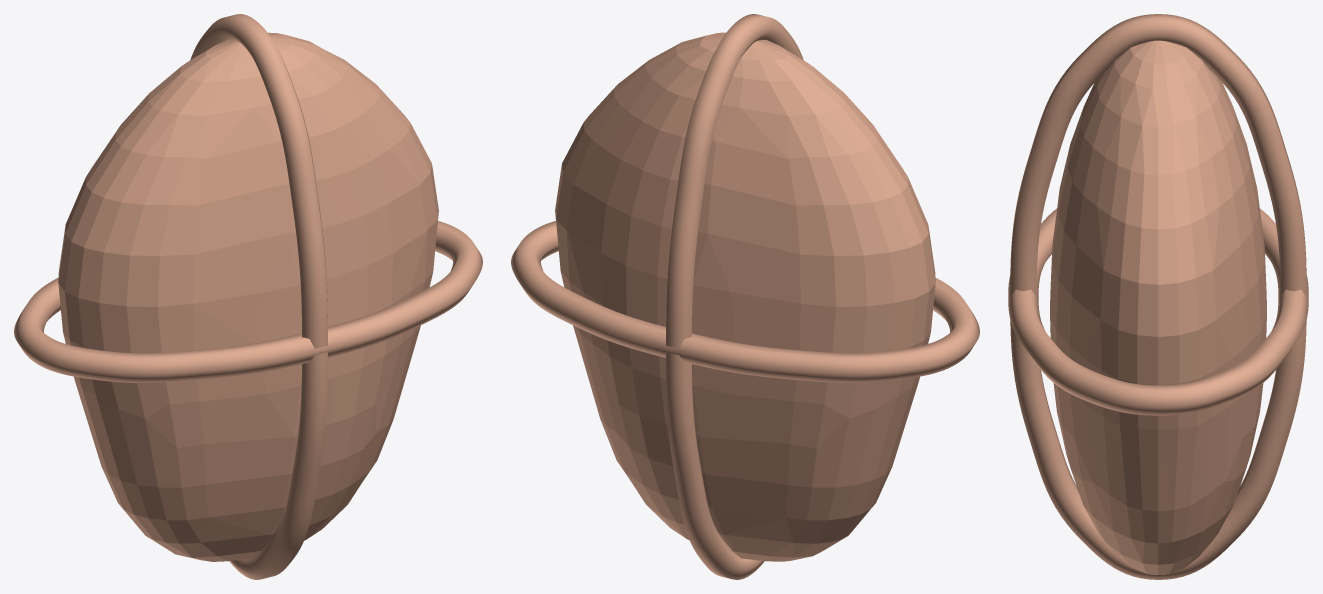
File: echo_bundle.glb
3 views of the same model, side by side, from view 1: azimuth 30°, elevation 25°; view 2: azimuth 150°, elevation 25°; view 3: azimuth 270°, elevation 25° (orthographic).
Parts seen in each view (by area): view 1: 软布行囊, 绳结, 绳结.001; view 2: 软布行囊, 绳结, 绳结.001; view 3: 软布行囊, 绳结.001, 绳结.
Boxes of the visible parts, x1,y1,x2,y2 form: 软布行囊: (58,32,438,561); 绳结: (14,221,482,382); 绳结.001: (190,14,327,579); 软布行囊: (555,32,935,561); 绳结: (511,221,979,382); 绳结.001: (666,14,803,579); 软布行囊: (1050,40,1266,574); 绳结.001: (1010,14,1306,579); 绳结: (1008,208,1308,415).
Size of the model in its own units: 0.616 by 0.7312 by 0.356.
